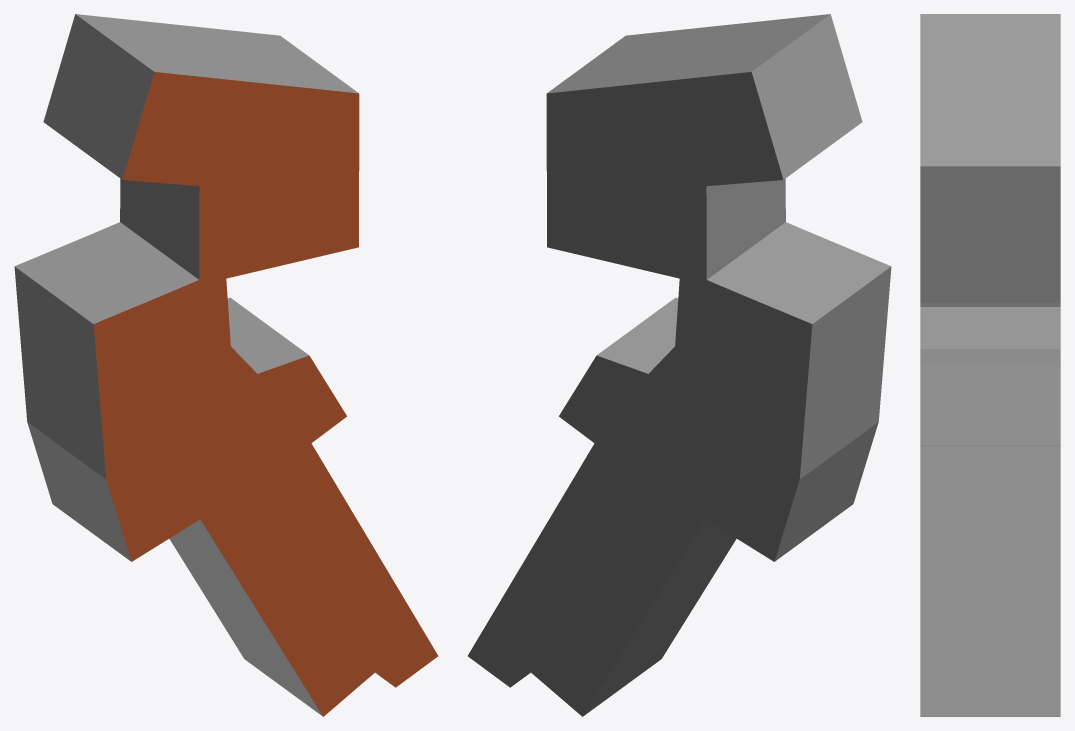
The model's file is construction_1120_assumed_A_Casa_h6m.obj.
The picture shows the model from 3 angles, left to right: view 1: azimuth 30°, elevation 25°; view 2: azimuth 150°, elevation 25°; view 3: azimuth 270°, elevation 25°; orthographic projection. The views are drawn at different scales.
Visible parts, largest first — view 1: construction_1120_assumed_A_Casa; view 2: construction_1120_assumed_A_Casa; view 3: construction_1120_assumed_A_Casa.
Part boxes in pixels (x1,y1,x2,y2): construction_1120_assumed_A_Casa: [14, 14, 437, 716]; construction_1120_assumed_A_Casa: [468, 14, 891, 716]; construction_1120_assumed_A_Casa: [920, 14, 1060, 716].
Size of the model in its own units: 15.11 by 28.73 by 6.
